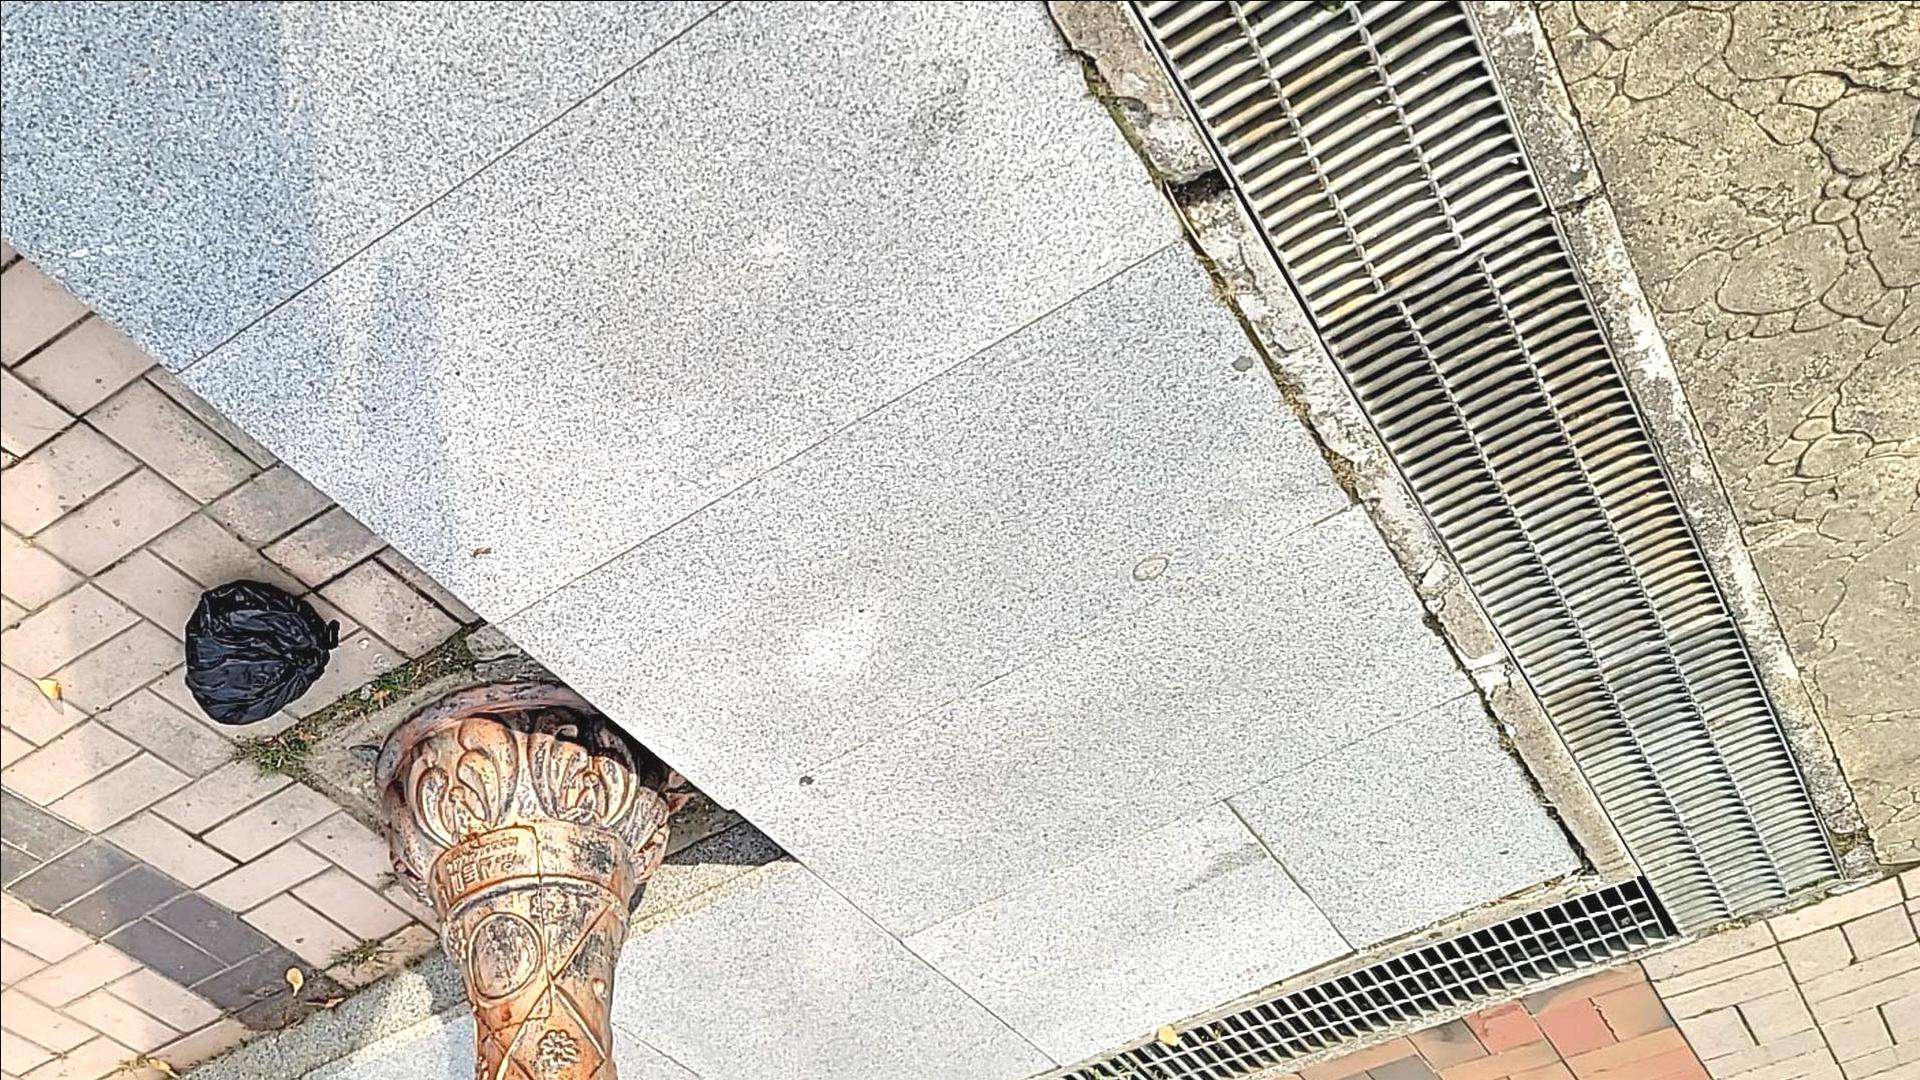black_bag: (175, 574, 345, 737)
